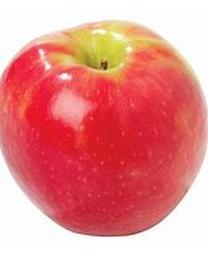apple: (0, 19, 208, 235)
